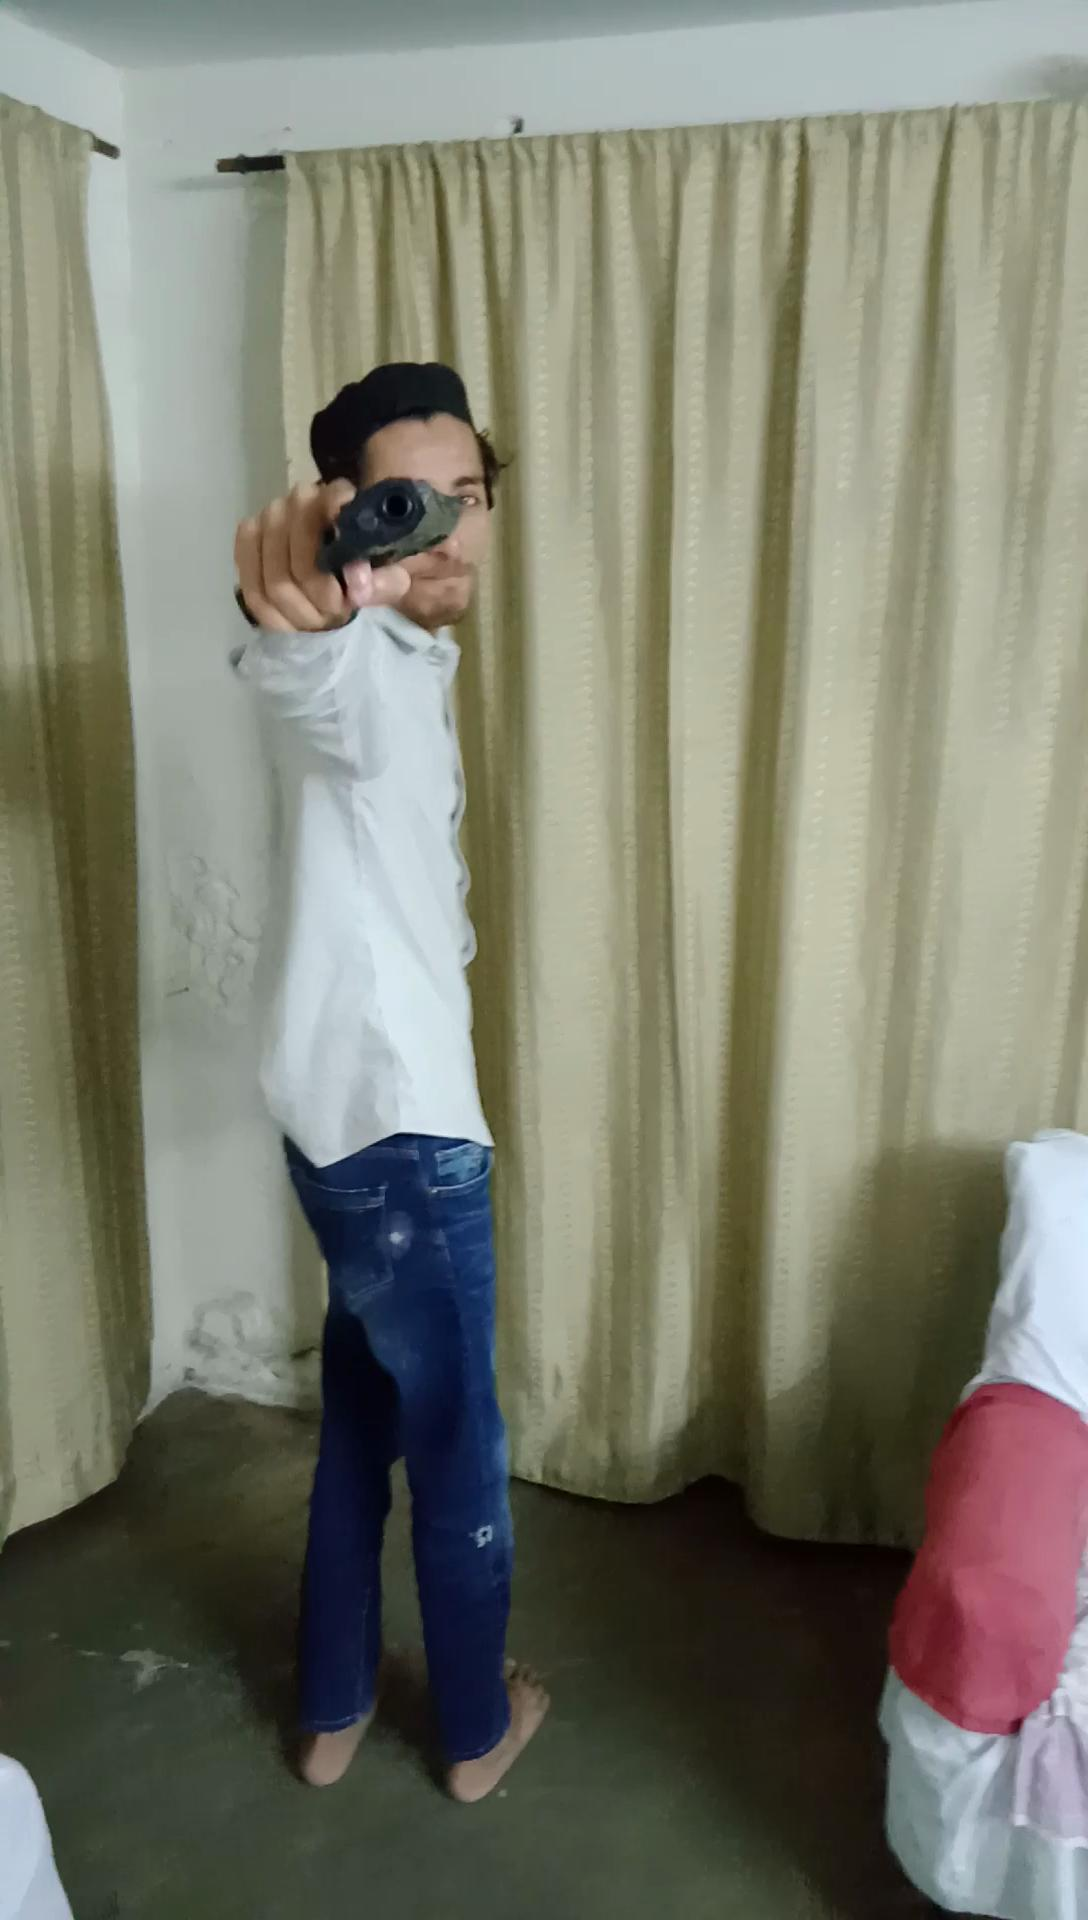criminal: (220, 349, 563, 1821)
weapon: (220, 462, 466, 632)
